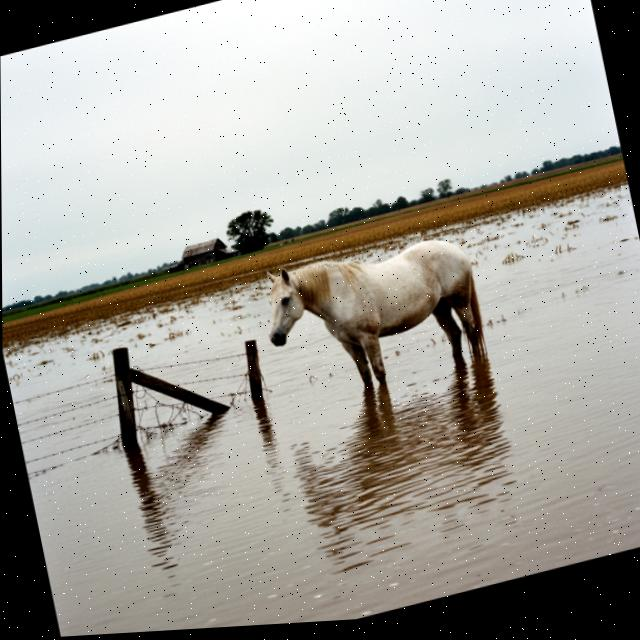horse: (248, 201, 520, 426)
